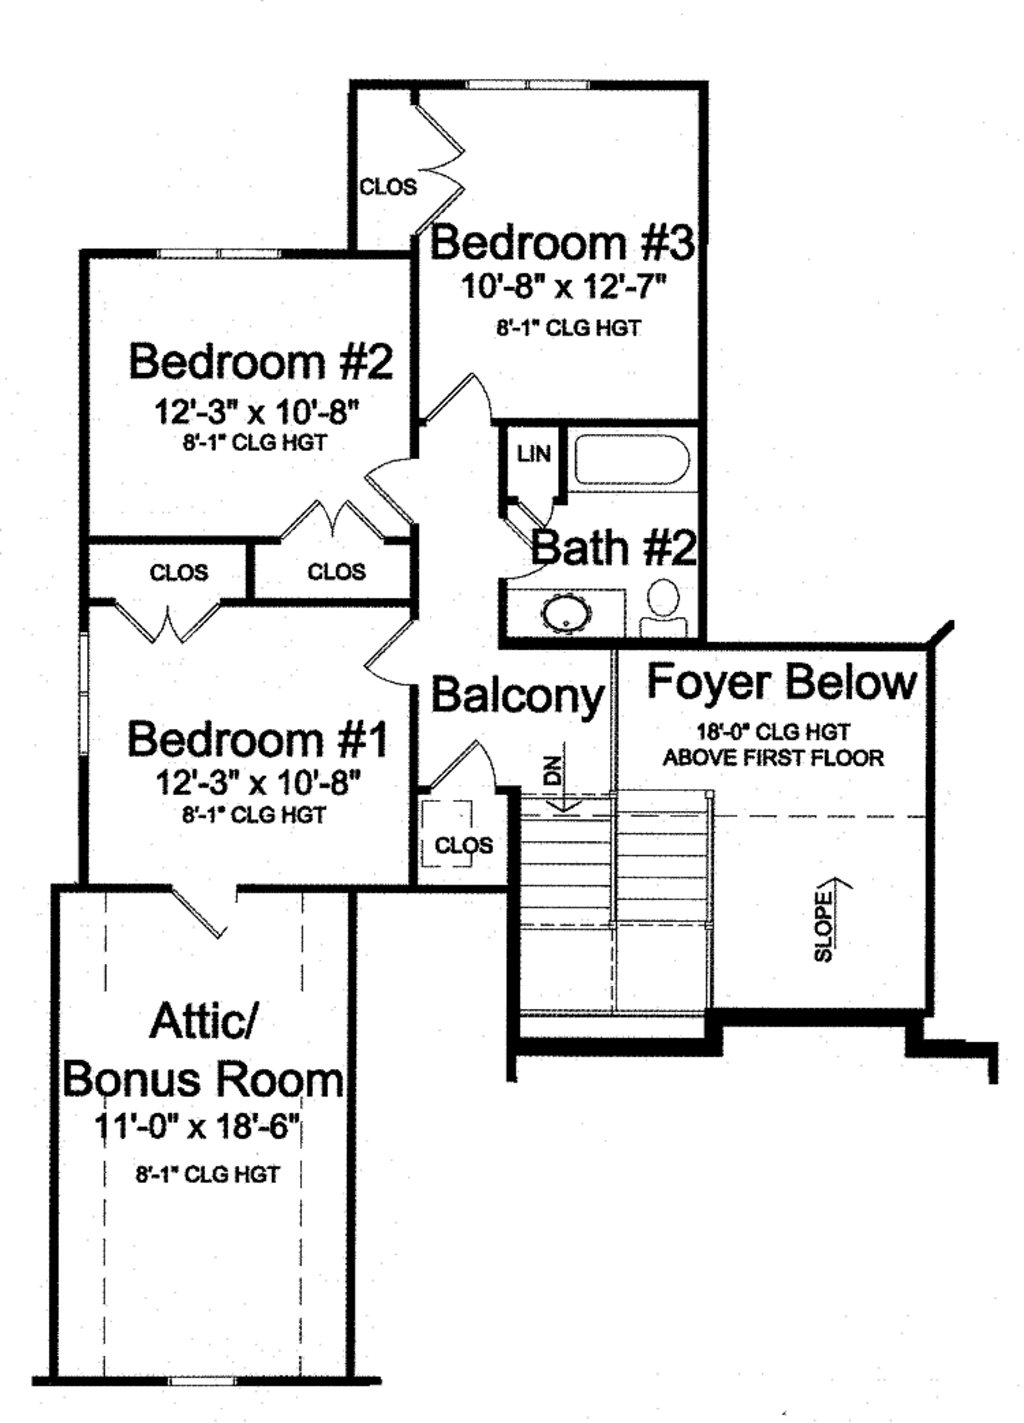door: (413, 102, 469, 244), (281, 497, 384, 560), (110, 597, 221, 647), (419, 375, 490, 438), (368, 457, 420, 540), (161, 886, 239, 939), (431, 737, 500, 795)
large_sink: (629, 572, 700, 652)
small_sink: (508, 589, 629, 651)
stairs: (514, 750, 714, 1061)
tub: (563, 420, 698, 497)
window: (463, 74, 598, 99), (150, 245, 298, 267), (68, 634, 94, 761)
